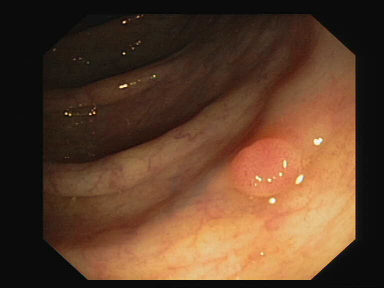polyp: (206, 132, 317, 205)
